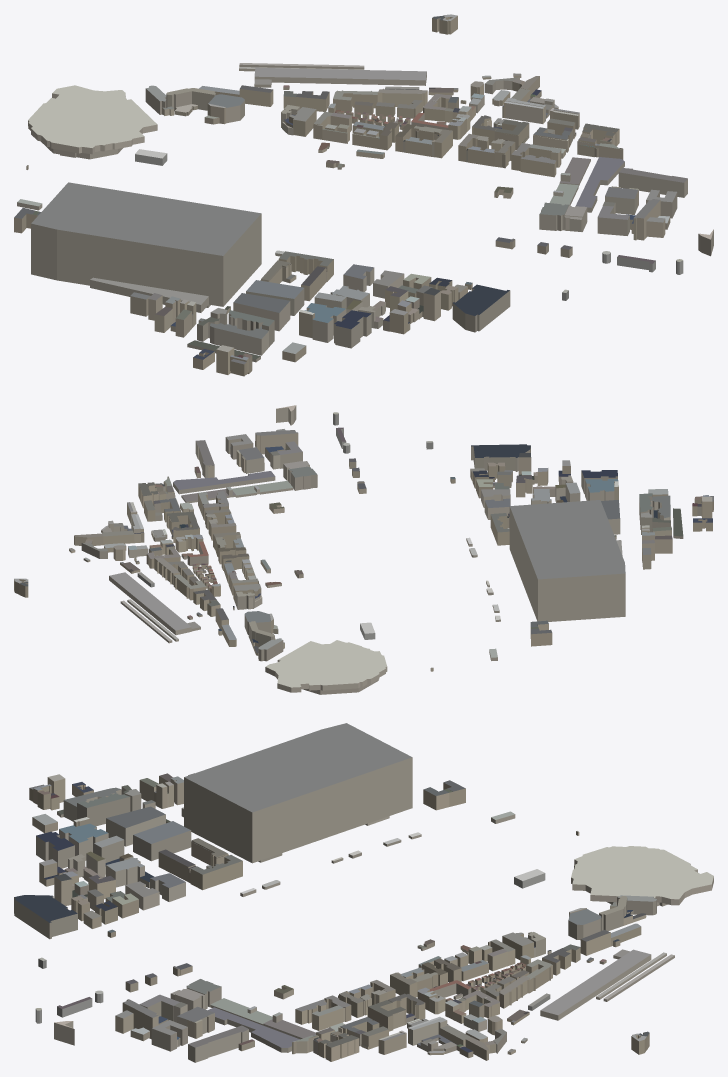
3 views of the same model, one above another, from view 1: azimuth 30°, elevation 25°; view 2: azimuth 150°, elevation 25°; view 3: azimuth 270°, elevation 25° (orthographic). The views are drawn at different scales.
Parts seen in each view (by area): view 1: tuile; view 2: tuile; view 3: tuile.
Part boxes in pixels (bbox=[...]): tuile: bbox=[14, 14, 713, 376]; tuile: bbox=[14, 405, 713, 694]; tuile: bbox=[14, 723, 713, 1062].
Size of the model in its own units: 1099 by 119 by 1146.
